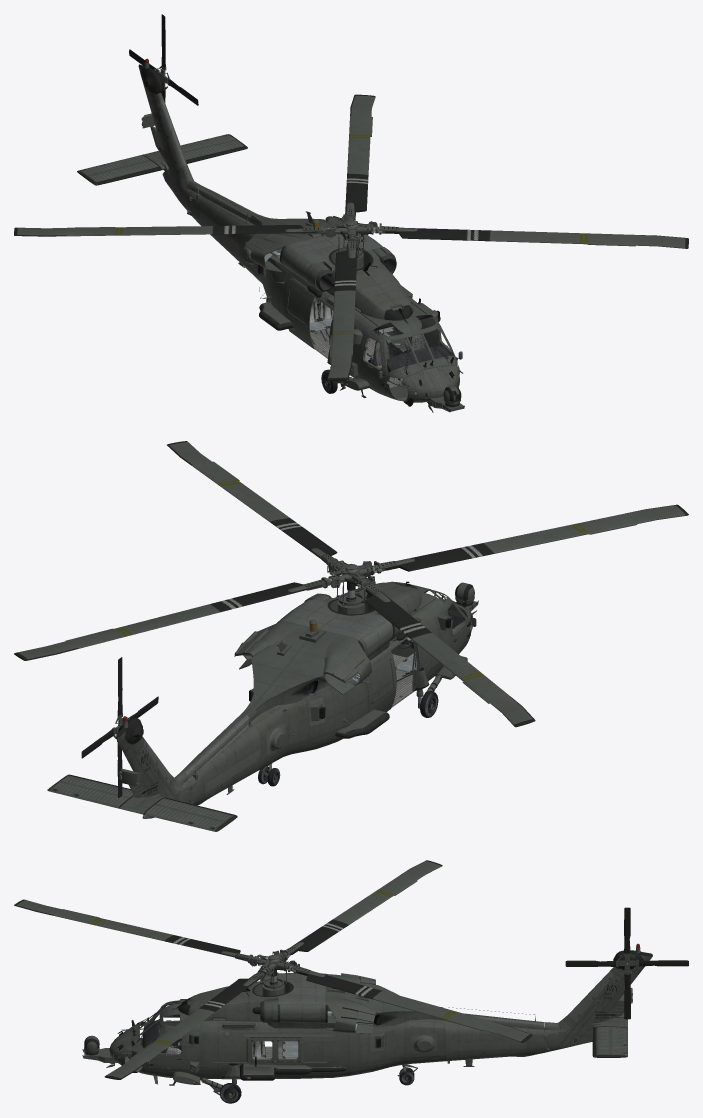
Rendered from seahawk.glb.
The picture shows the model from 3 angles, top to bottom: view 1: azimuth 30°, elevation 25°; view 2: azimuth 150°, elevation 25°; view 3: azimuth 270°, elevation 25°; orthographic projection. The views are drawn at different scales.
Parts seen in each view (by area): view 1: body, rotor; view 2: body, rotor; view 3: body, rotor.
Part boxes in pixels (x1=…): body: x1=77, y1=14, x2=464, y2=412; rotor: x1=14, y1=94, x2=688, y2=381; body: x1=47, y1=578, x2=478, y2=831; rotor: x1=14, y1=441, x2=688, y2=727; body: x1=82, y1=907, x2=688, y2=1103; rotor: x1=14, y1=860, x2=532, y2=1079.
Bounding box in the file's own units: 13.06 × 5 × 16.98.
3 materials, 3 textured.
